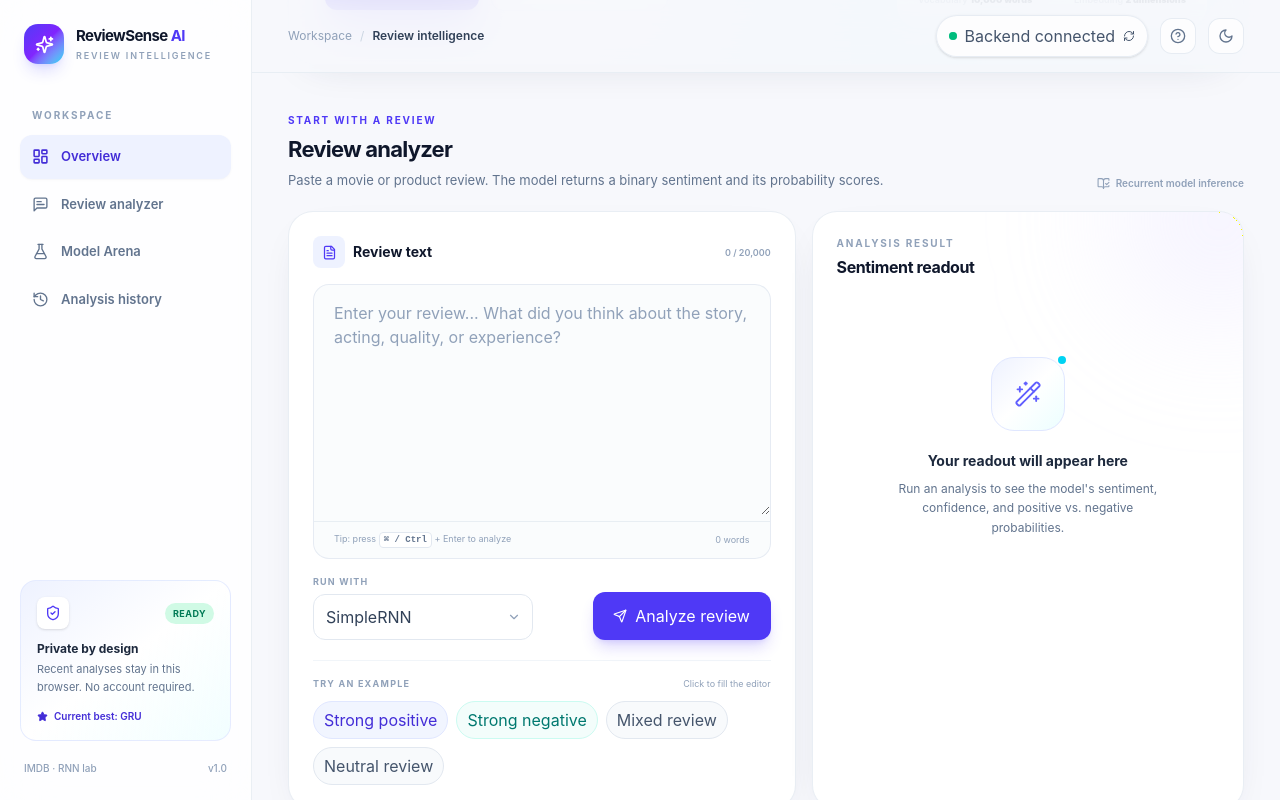
Test: ReviewSense dashboard › renders a real API prediction in the result and history panels
(page scrolled)
Expected: the text "Backend connected" is shown, [965,24,1115,48]
Replace the text in the text box with placeholder "Enter your review" with "I absolutely loved this movie.". click: coordinates (542, 400)
box: [314,285,770,515]
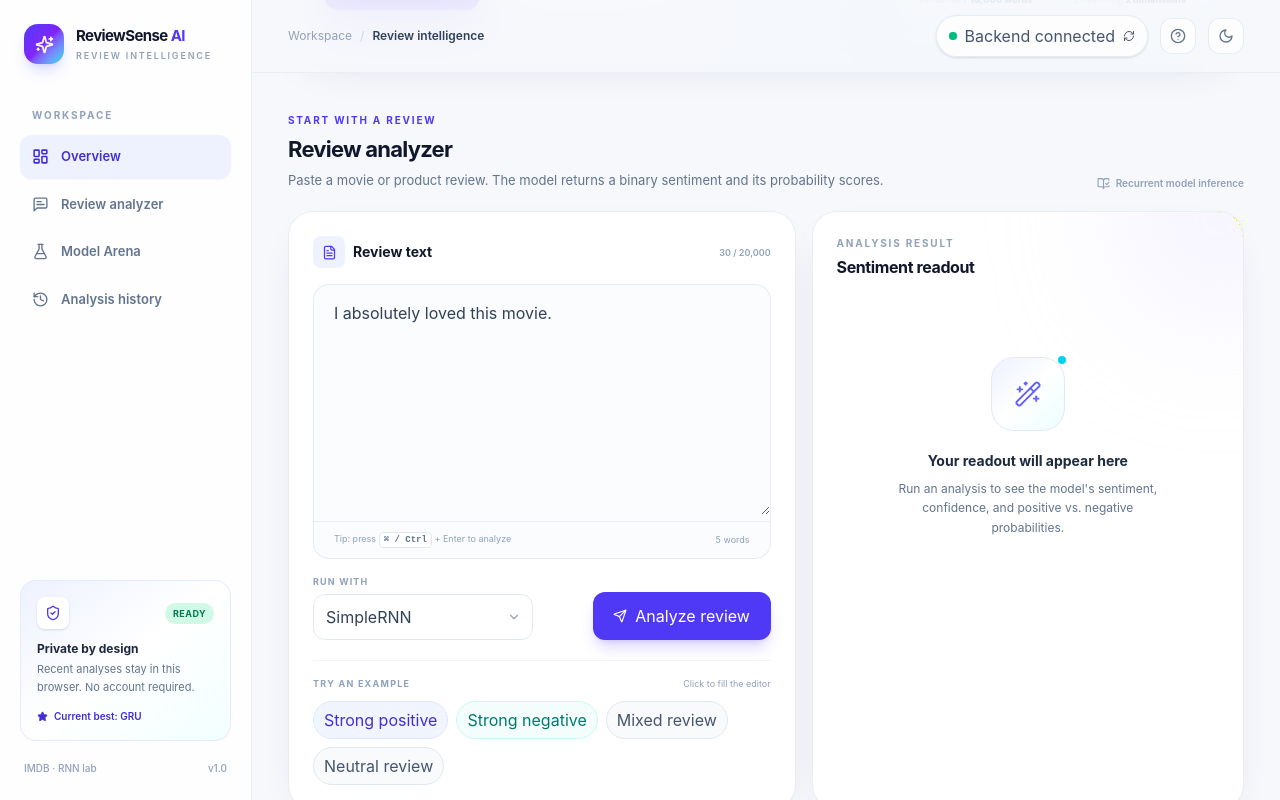
Click the button "Analyze review". click: coordinates (682, 616)
box: [593,592,771,640]
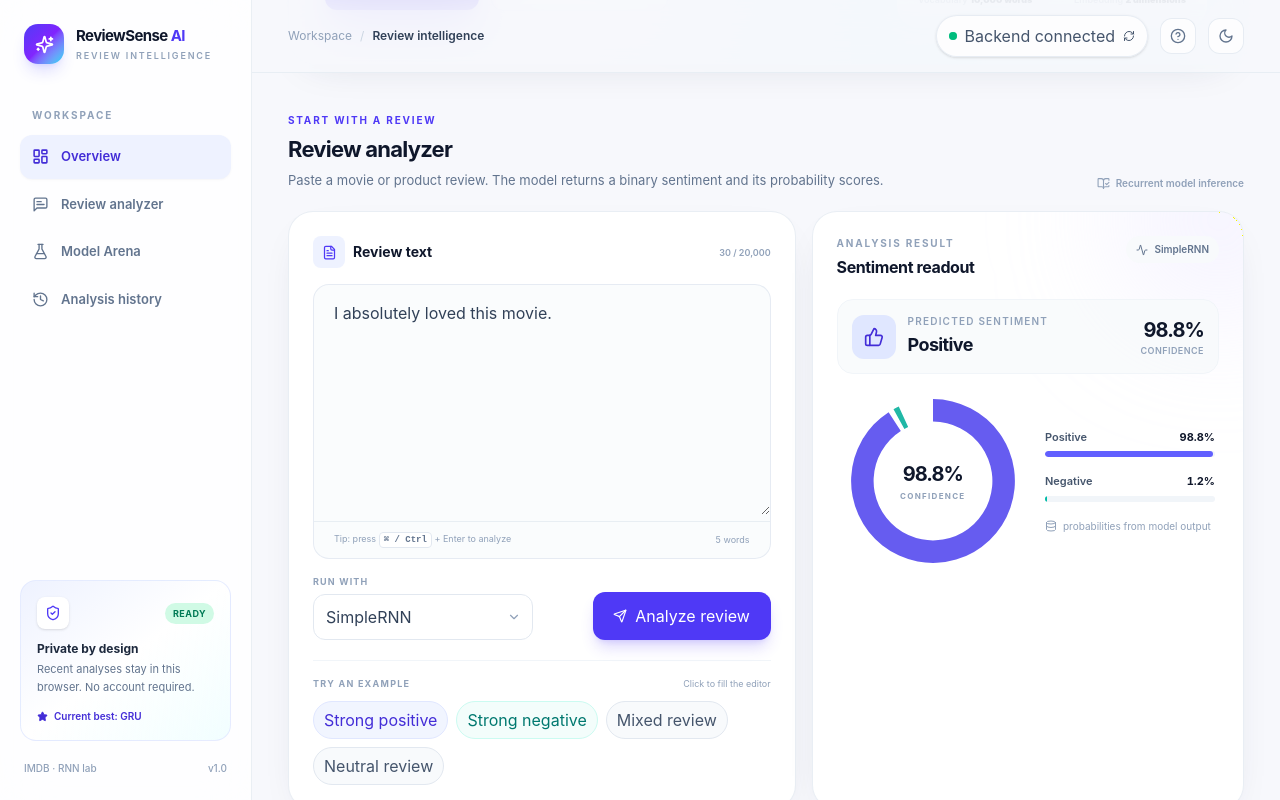
Expected: the text "98.8%" next to "Predicted sentiment" is shown, [1140,316,1204,344]
Expected: the text "Positive" below "Predicted sentiment" is shown, [908,334,973,355]
Expected: the text "probabilities from model output" is shown, [1045,518,1215,534]
